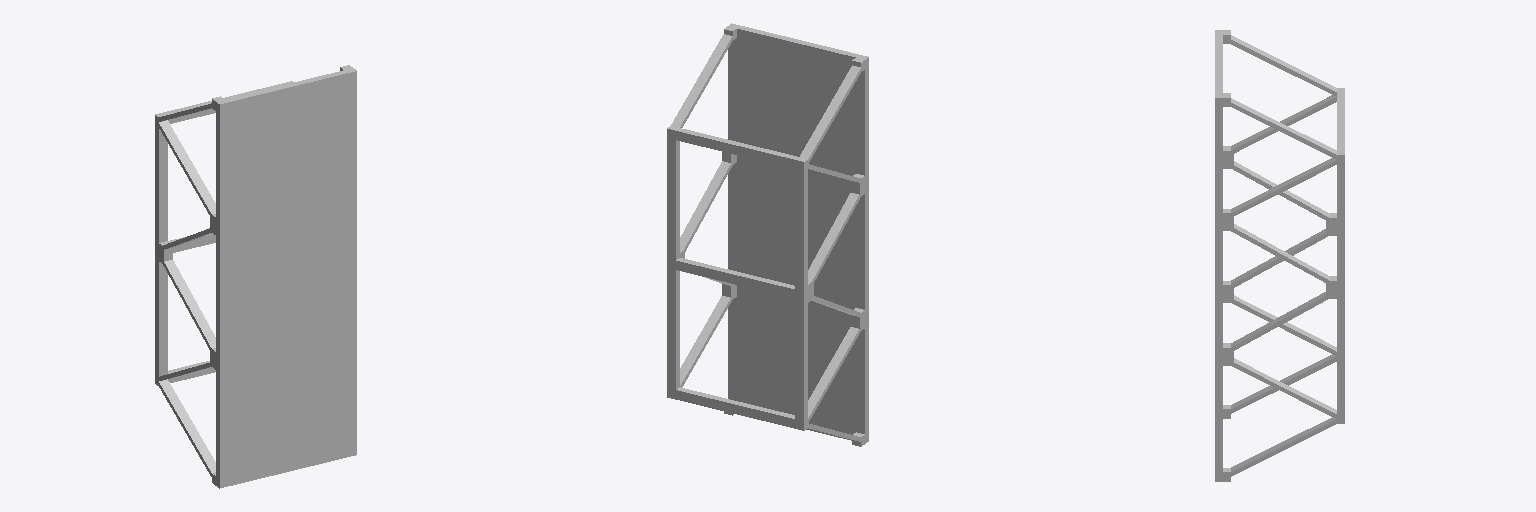
Rendered from santa.obj.
3 views of the same model, side by side, from view 1: azimuth 30°, elevation 25°; view 2: azimuth 150°, elevation 25°; view 3: azimuth 270°, elevation 25° (orthographic).
Parts seen in each view (by area): view 1: object_19, object_8, object_28, object_15, object_10; view 2: object_19, object_8, object_7, object_11, object_5, object_23, object_26, object_27, object_16, object_17, object_20, object_21; view 3: object_19, object_7, object_26, object_25, object_27, object_21, object_18, object_28, object_20, object_9, object_16, object_15 (+2 smaller).
Boxes of the visible parts, x1=… form: object_19: x1=216, y1=68, x2=356, y2=488; object_8: x1=155, y1=112, x2=167, y2=385; object_28: x1=159, y1=379, x2=215, y2=476; object_15: x1=159, y1=120, x2=215, y2=215; object_10: x1=163, y1=260, x2=215, y2=349; object_19: x1=728, y1=23, x2=868, y2=443; object_8: x1=795, y1=157, x2=807, y2=430; object_7: x1=667, y1=126, x2=679, y2=399; object_11: x1=676, y1=128, x2=798, y2=168; object_5: x1=676, y1=258, x2=794, y2=298; object_23: x1=676, y1=387, x2=794, y2=428; object_26: x1=800, y1=65, x2=860, y2=163; object_27: x1=671, y1=34, x2=732, y2=127; object_16: x1=808, y1=327, x2=860, y2=422; object_17: x1=808, y1=193, x2=860, y2=283; object_20: x1=680, y1=161, x2=732, y2=251; object_21: x1=680, y1=296, x2=732, y2=387; object_19: x1=1215, y1=30, x2=1222, y2=481; object_7: x1=1337, y1=151, x2=1344, y2=423; object_26: x1=1231, y1=35, x2=1336, y2=96; object_25: x1=1231, y1=417, x2=1336, y2=476; object_27: x1=1231, y1=98, x2=1336, y2=159; object_21: x1=1231, y1=358, x2=1336, y2=418; object_18: x1=1231, y1=158, x2=1336, y2=215; object_28: x1=1231, y1=354, x2=1336, y2=413; object_20: x1=1231, y1=224, x2=1329, y2=282; object_9: x1=1231, y1=292, x2=1328, y2=350; object_16: x1=1231, y1=295, x2=1336, y2=355; object_15: x1=1231, y1=95, x2=1336, y2=153.
Bounding box in the file's own units: 6.91 × 18.42 × 5.64.